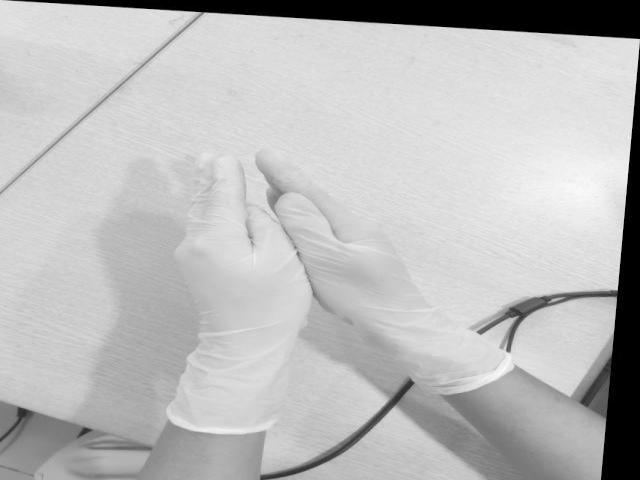gloved: (259, 147, 444, 325), (174, 149, 314, 343)
